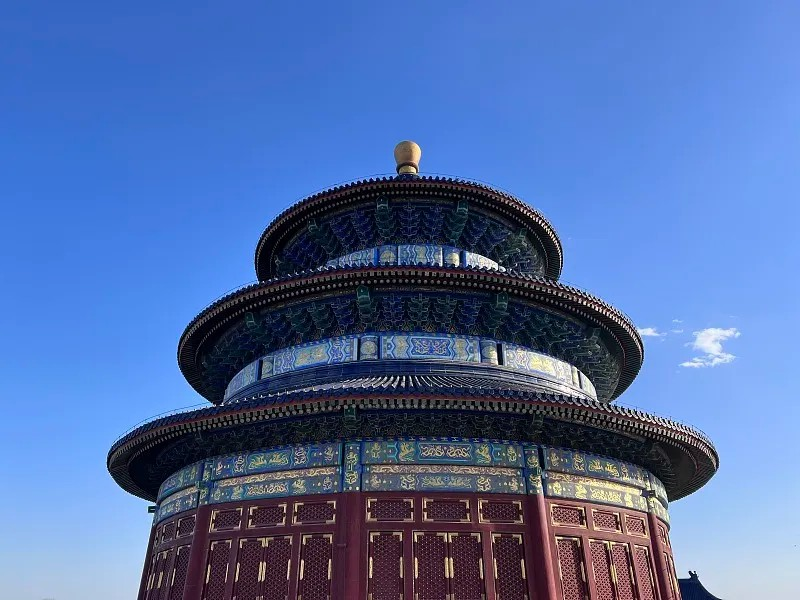Heaven: (106, 139, 720, 600)
